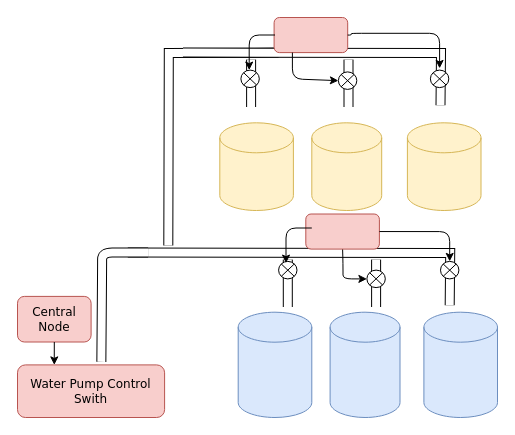
Some shapes in this 515 by 435 pixel diagram are drawn without their labels. The shapes that lost their labels are listed below. From the top down, each one's centre as x and y in pixels, then its label:
At (x=310, y=34): "Remote Node 1".
At (x=342, y=231): "Remote Node 2".
